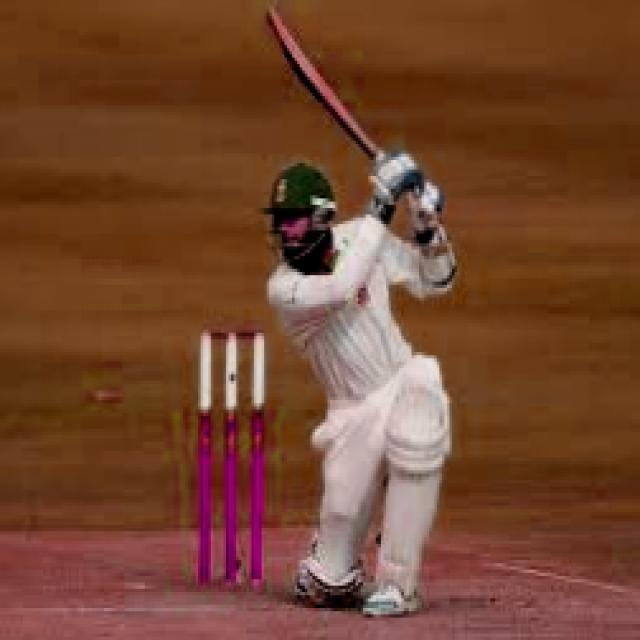bat: (259, 1, 388, 167)
